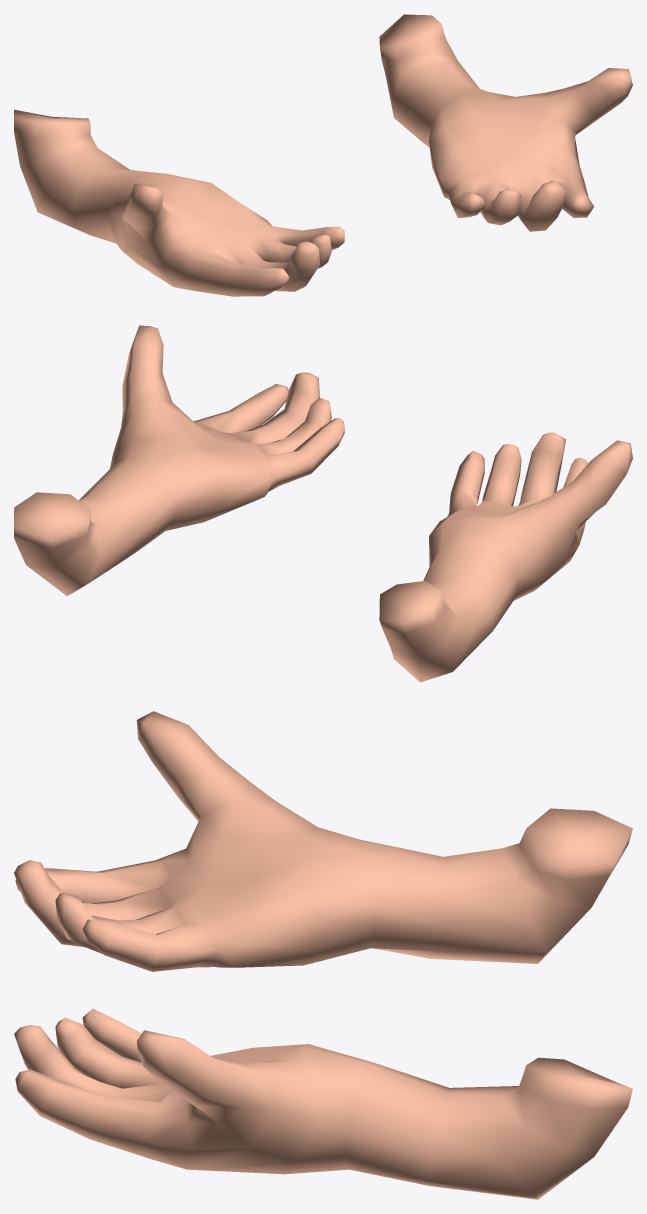
Rendered from AF_M_Arm_10.FBX.
3 views of the same model, one above another, from view 1: azimuth 30°, elevation 25°; view 2: azimuth 150°, elevation 25°; view 3: azimuth 270°, elevation 25° (orthographic). The views are drawn at different scales.
Parts seen in each view (by area): view 1: AF_M_Arm_10; view 2: AF_M_Arm_10; view 3: AF_M_Arm_10.
Part boxes in pixels (x1,y1,x2,y2): AF_M_Arm_10: (14, 14, 632, 296); AF_M_Arm_10: (14, 325, 632, 682); AF_M_Arm_10: (14, 711, 632, 1199).
Size of the model in its own units: 534 by 155 by 421.
1 material, 1 textured.
